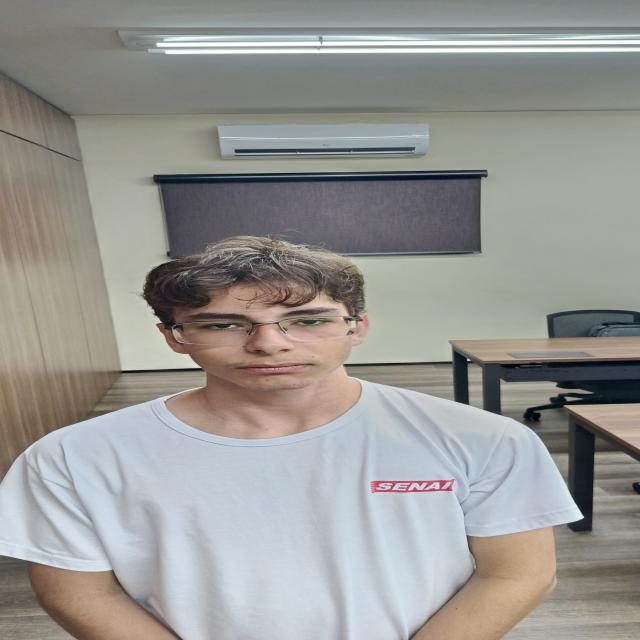sem_oculos: (165, 316, 361, 347)
